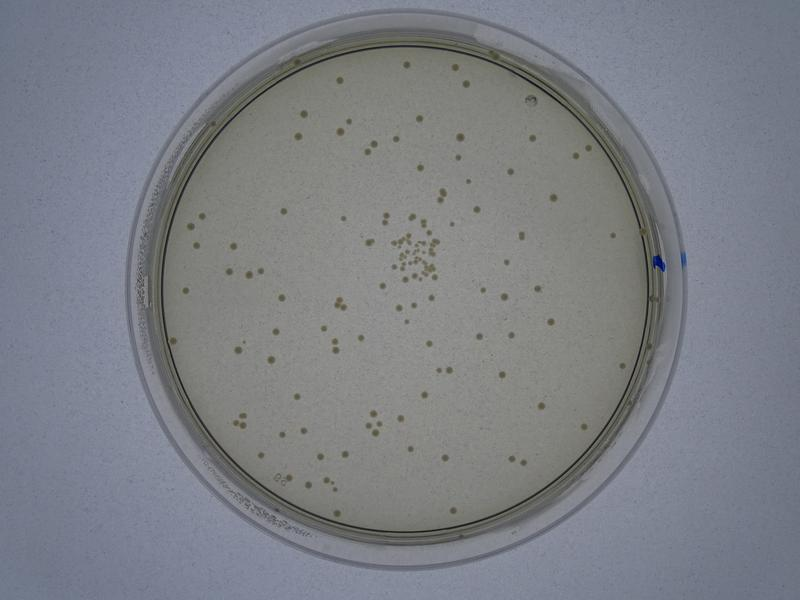colony: (452, 131, 466, 145), (416, 387, 430, 401), (545, 316, 560, 329), (496, 366, 509, 381), (178, 285, 192, 297), (534, 399, 549, 410), (335, 75, 348, 87), (291, 130, 303, 142), (412, 112, 424, 124), (526, 132, 537, 145), (546, 192, 558, 203), (401, 58, 412, 70), (445, 505, 459, 514), (184, 222, 195, 233), (254, 450, 266, 460), (459, 80, 472, 89), (278, 205, 288, 216), (277, 292, 287, 303), (474, 331, 485, 341), (334, 127, 344, 138), (505, 166, 516, 176), (439, 450, 449, 461), (227, 242, 239, 251), (471, 205, 483, 214), (298, 108, 308, 118), (501, 256, 511, 266), (422, 339, 433, 348), (502, 288, 509, 301), (530, 285, 541, 293), (508, 329, 515, 340), (267, 355, 276, 363), (292, 392, 301, 400), (272, 328, 280, 336)
